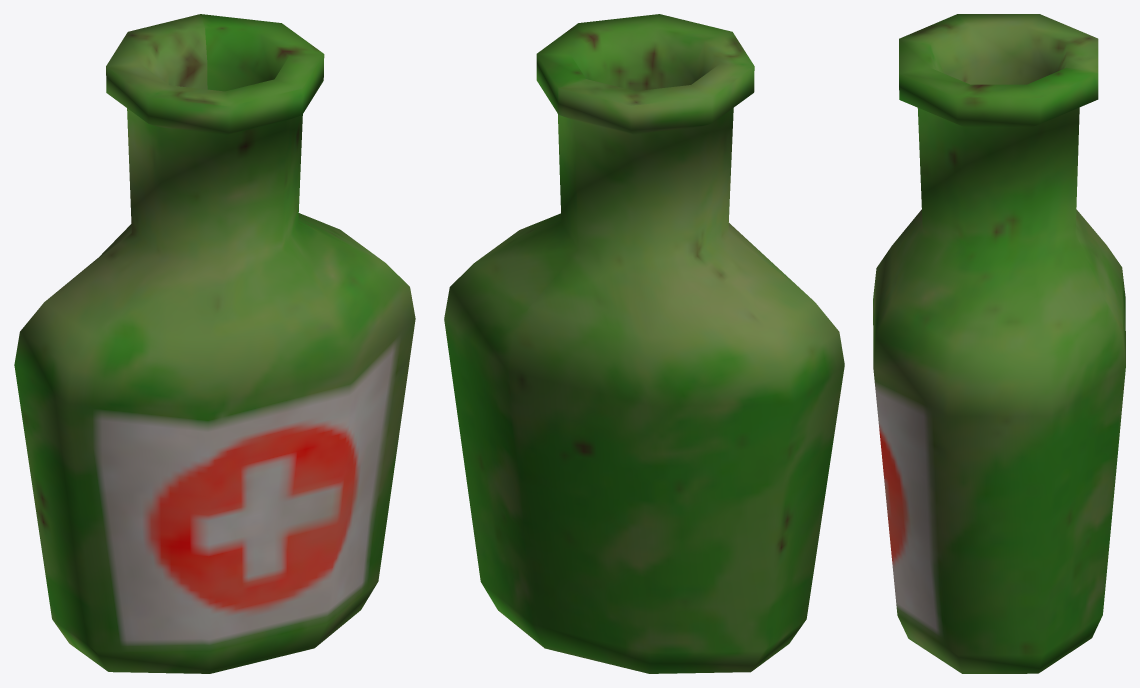
File: drinkable_health_sm.fbx
3 renders of one model, left to right at view 1: azimuth 30°, elevation 25°; view 2: azimuth 150°, elevation 25°; view 3: azimuth 270°, elevation 25°, orthographic.
Parts seen in each view (by area): view 1: drinkable_health_sm; view 2: drinkable_health_sm; view 3: drinkable_health_sm.
Boxes of the visible parts, <box> form: drinkable_health_sm: <box>14,14,415,673</box>; drinkable_health_sm: <box>444,14,844,673</box>; drinkable_health_sm: <box>873,14,1125,673</box>.
Size of the model in its own units: 9.4 by 14.93 by 6.03.
Materials: 1 (1 with a texture image).
